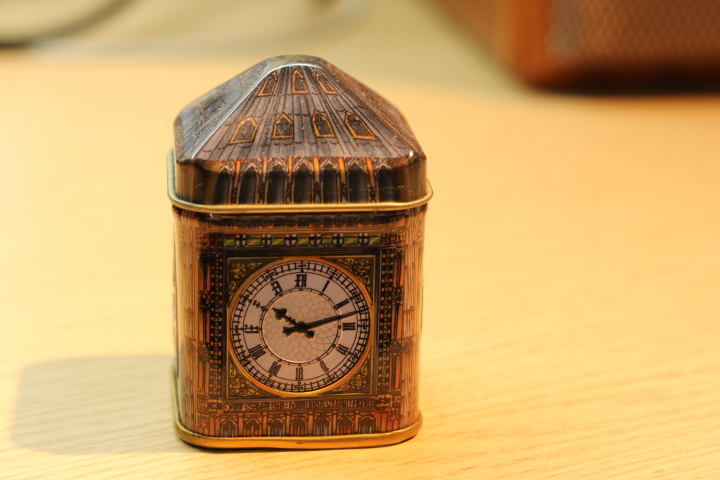Big Ben: (159, 47, 445, 459)
